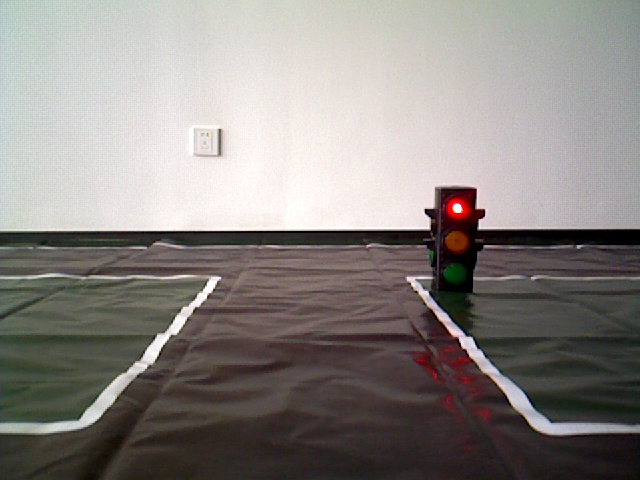red: (436, 193, 478, 288)
